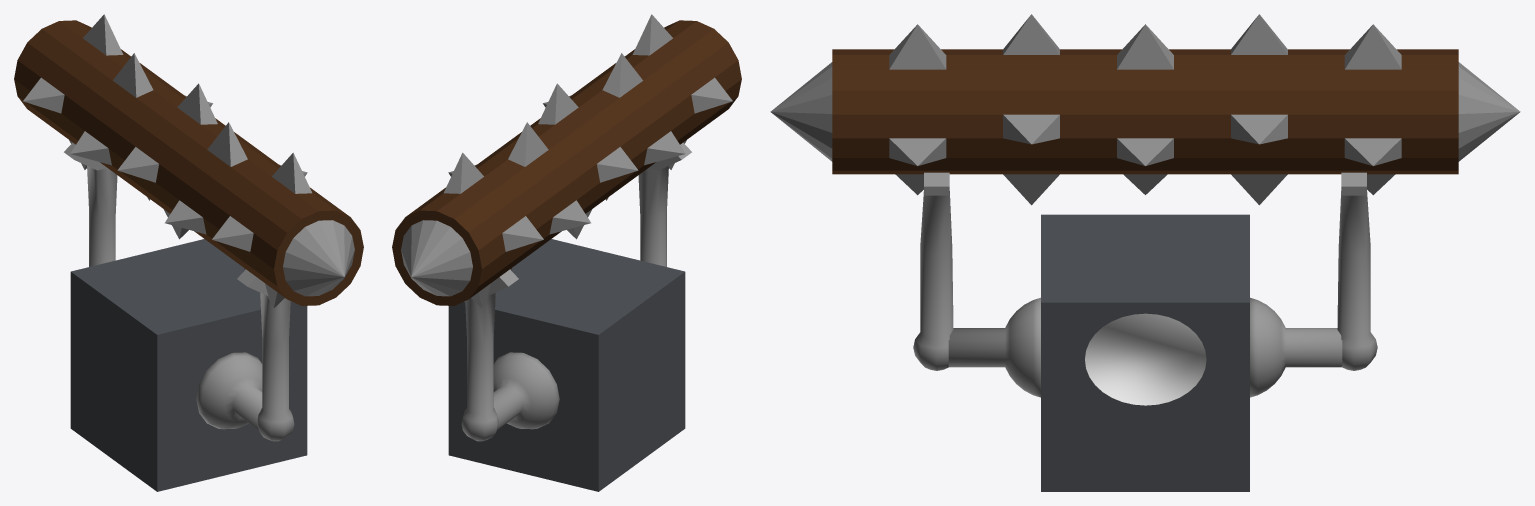
Rendered from arms.fbx.
3 renders of one model, left to right at view 1: azimuth 30°, elevation 25°; view 2: azimuth 150°, elevation 25°; view 3: azimuth 270°, elevation 25°, orthographic. The views are drawn at different scales.
Parts seen in each view (by area): view 1: Cylinder, Body, Arms; view 2: Cylinder, Body, Arms; view 3: Cylinder, Body, Arms, Face.
Boxes of the visible parts, x1=… form: Cylinder: x1=14, y1=14, x2=363, y2=308; Body: x1=70, y1=239, x2=307, y2=491; Arms: x1=64, y1=142, x2=294, y2=441; Cylinder: x1=392, y1=14, x2=741, y2=308; Body: x1=448, y1=239, x2=685, y2=491; Arms: x1=461, y1=142, x2=691, y2=441; Cylinder: x1=770, y1=14, x2=1520, y2=205; Body: x1=1041, y1=214, x2=1249, y2=491; Arms: x1=913, y1=172, x2=1377, y2=397; Face: x1=1085, y1=313, x2=1206, y2=405.
Size of the model in its own units: 200 by 454 by 719.
